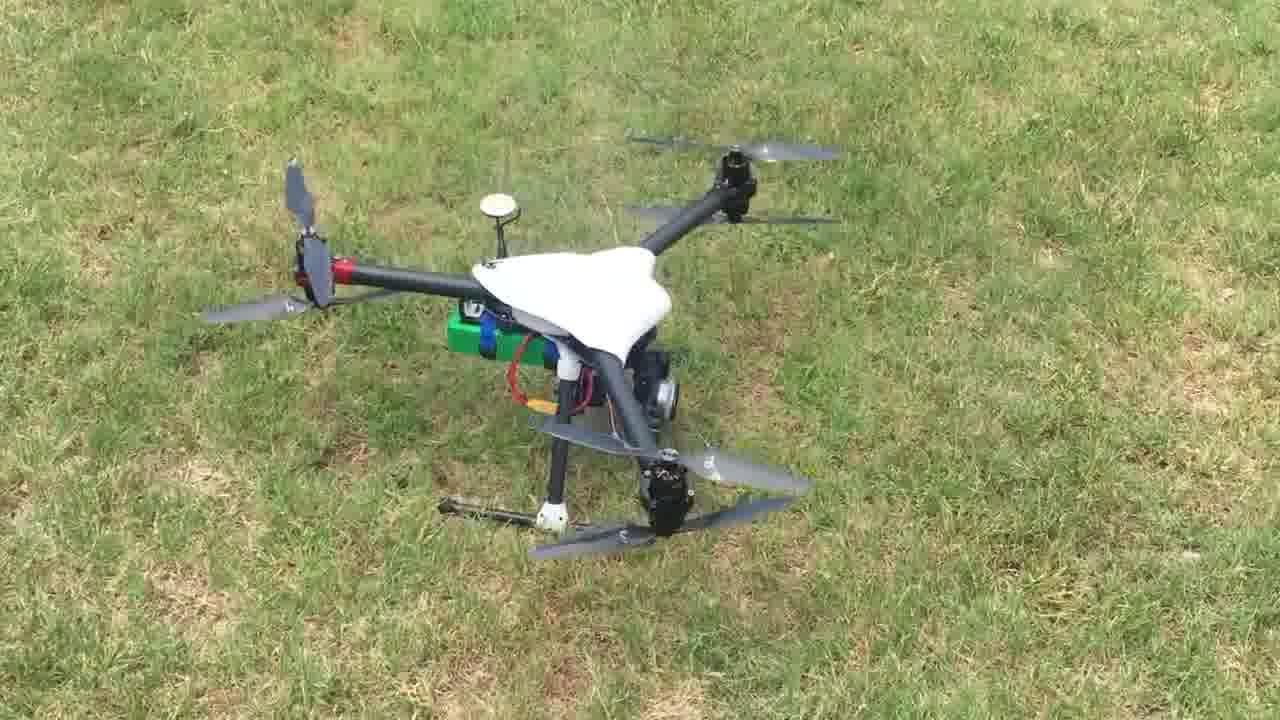drone: (186, 116, 844, 570)
